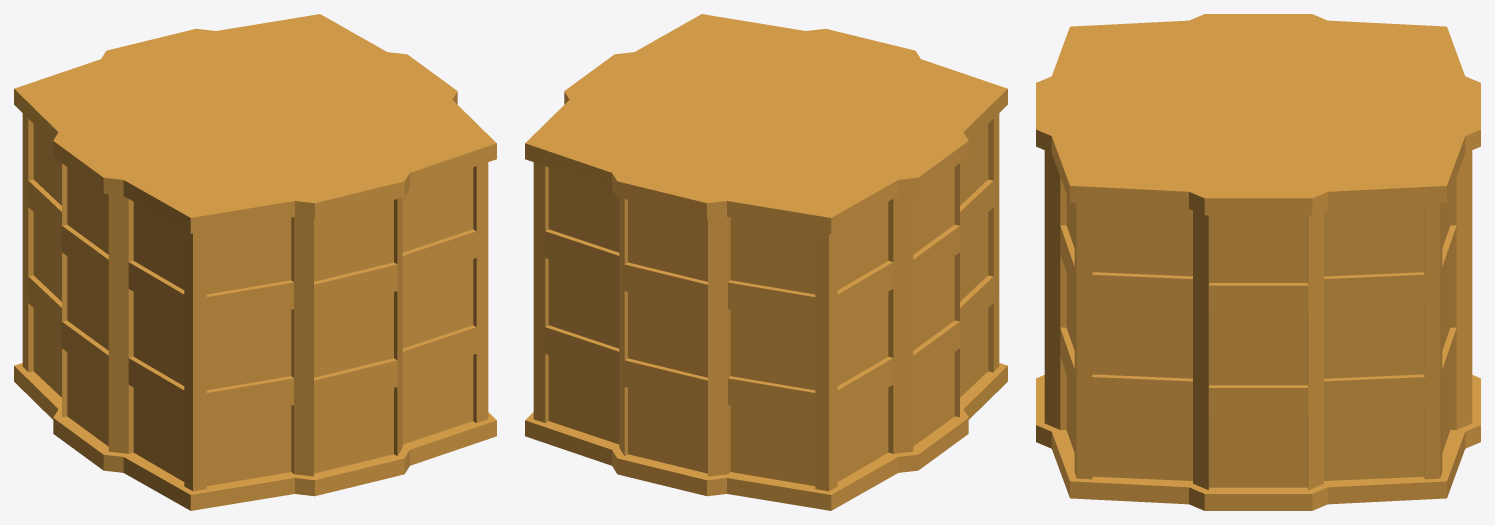
File: skyscraper2-part-middle-small.fbx
3 renders of one model, left to right at view 1: azimuth 30°, elevation 25°; view 2: azimuth 150°, elevation 25°; view 3: azimuth 270°, elevation 25°, orthographic. The views are drawn at different scales.
Parts seen in each view (by area): view 1: skyscraper2-part-middle-small; view 2: skyscraper2-part-middle-small; view 3: skyscraper2-part-middle-small.
Part boxes in pixels (bbox=[...]): skyscraper2-part-middle-small: bbox=[14, 14, 496, 510]; skyscraper2-part-middle-small: bbox=[525, 14, 1007, 510]; skyscraper2-part-middle-small: bbox=[1036, 14, 1480, 510].
Size of the model in its own units: 13.92 by 11 by 14.19.
